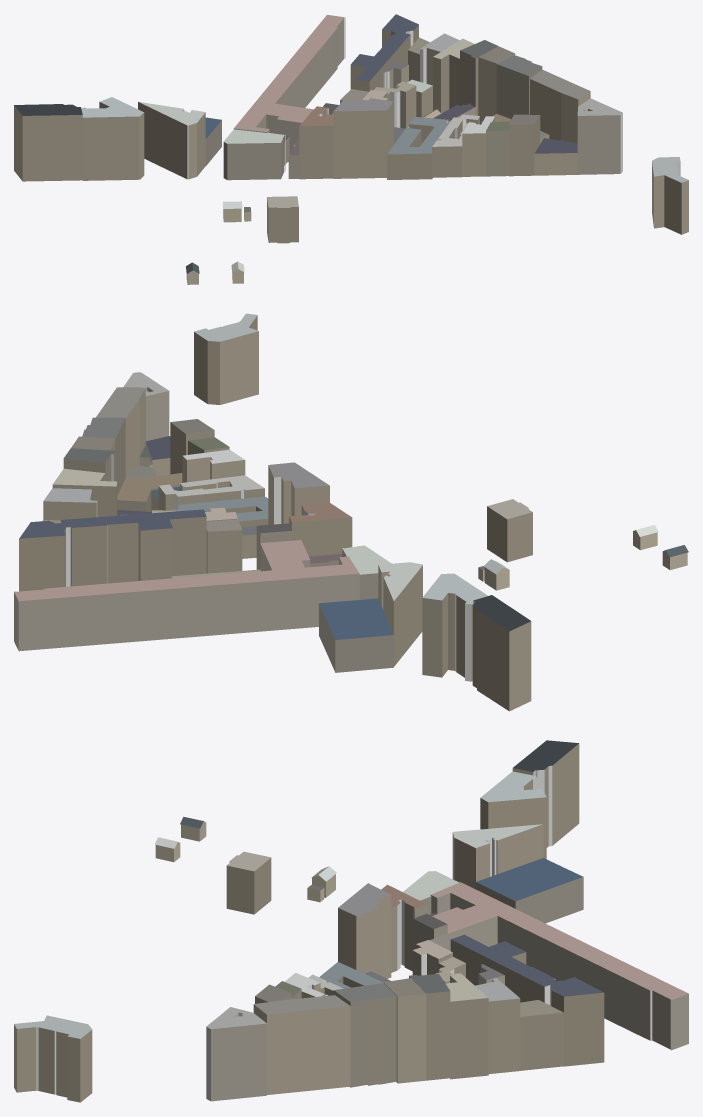
3 views of the same model, one above another, from view 1: azimuth 30°, elevation 25°; view 2: azimuth 150°, elevation 25°; view 3: azimuth 270°, elevation 25° (orthographic). The views are drawn at different scales.
Visible parts, largest first — view 1: tuile; view 2: tuile; view 3: tuile.
Part boxes in pixels (box(x1,y1,x2,y2)): tuile: box(14, 14, 688, 284); tuile: box(14, 313, 688, 711); tuile: box(14, 740, 688, 1102).
Bounding box in the file's own units: 254 × 37.68 × 260.
